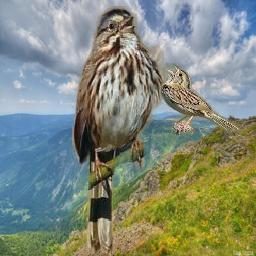Sparrow: (73, 7, 166, 256), (160, 64, 243, 137)
